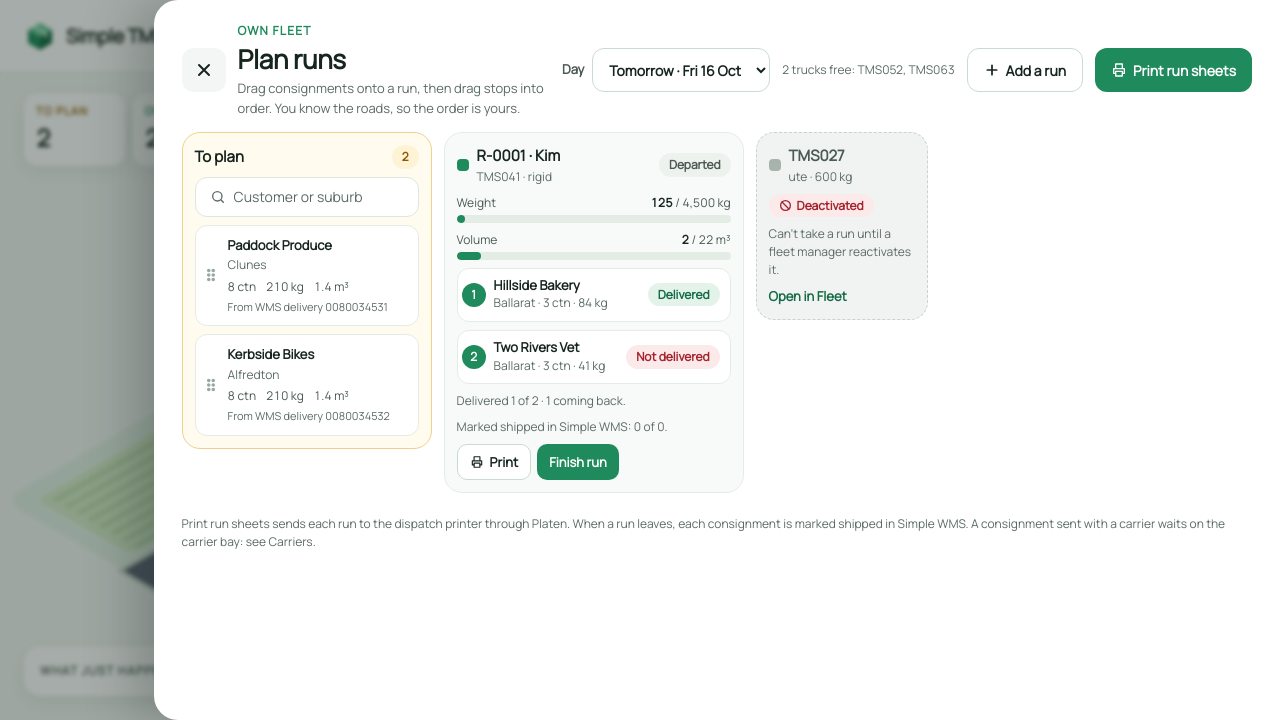
it: Plan runs › finishes a run the driver left open, once every stop is done
Click the button "Finish run" at (578, 462), box [537,444,619,480]
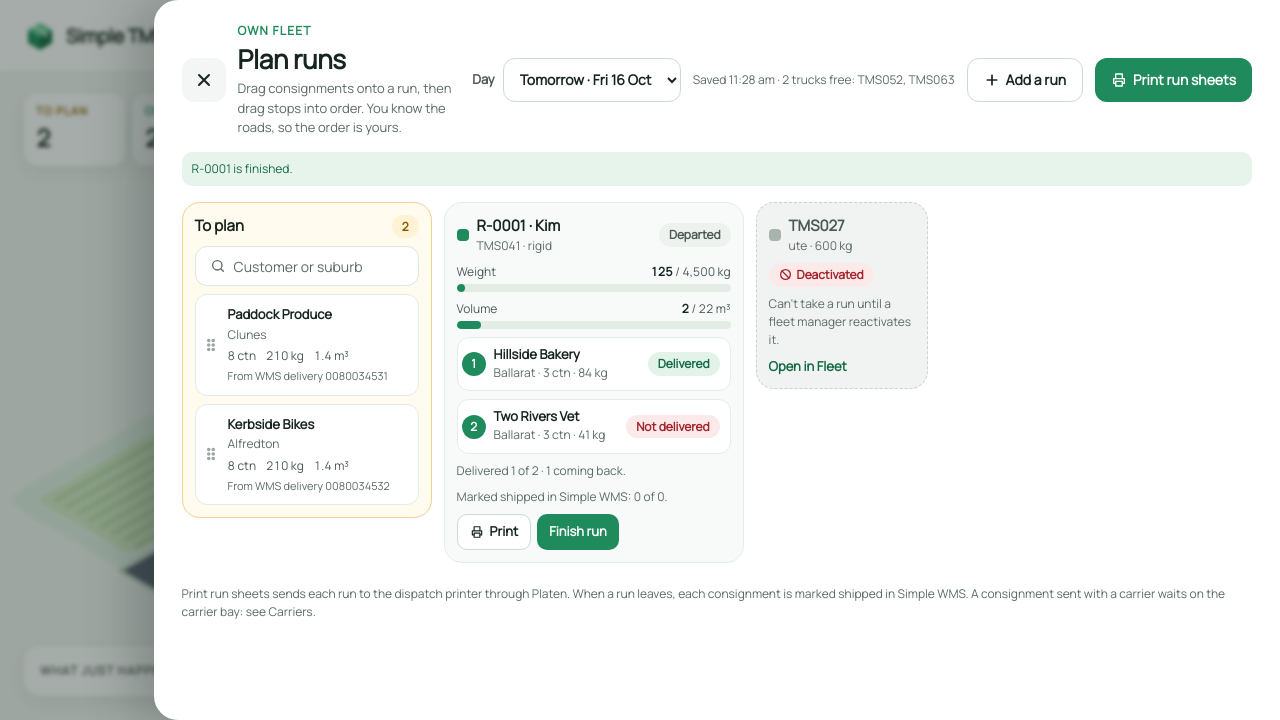
expect the text "R-0001 is finished." is shown: met, box [182,152,1252,186]
